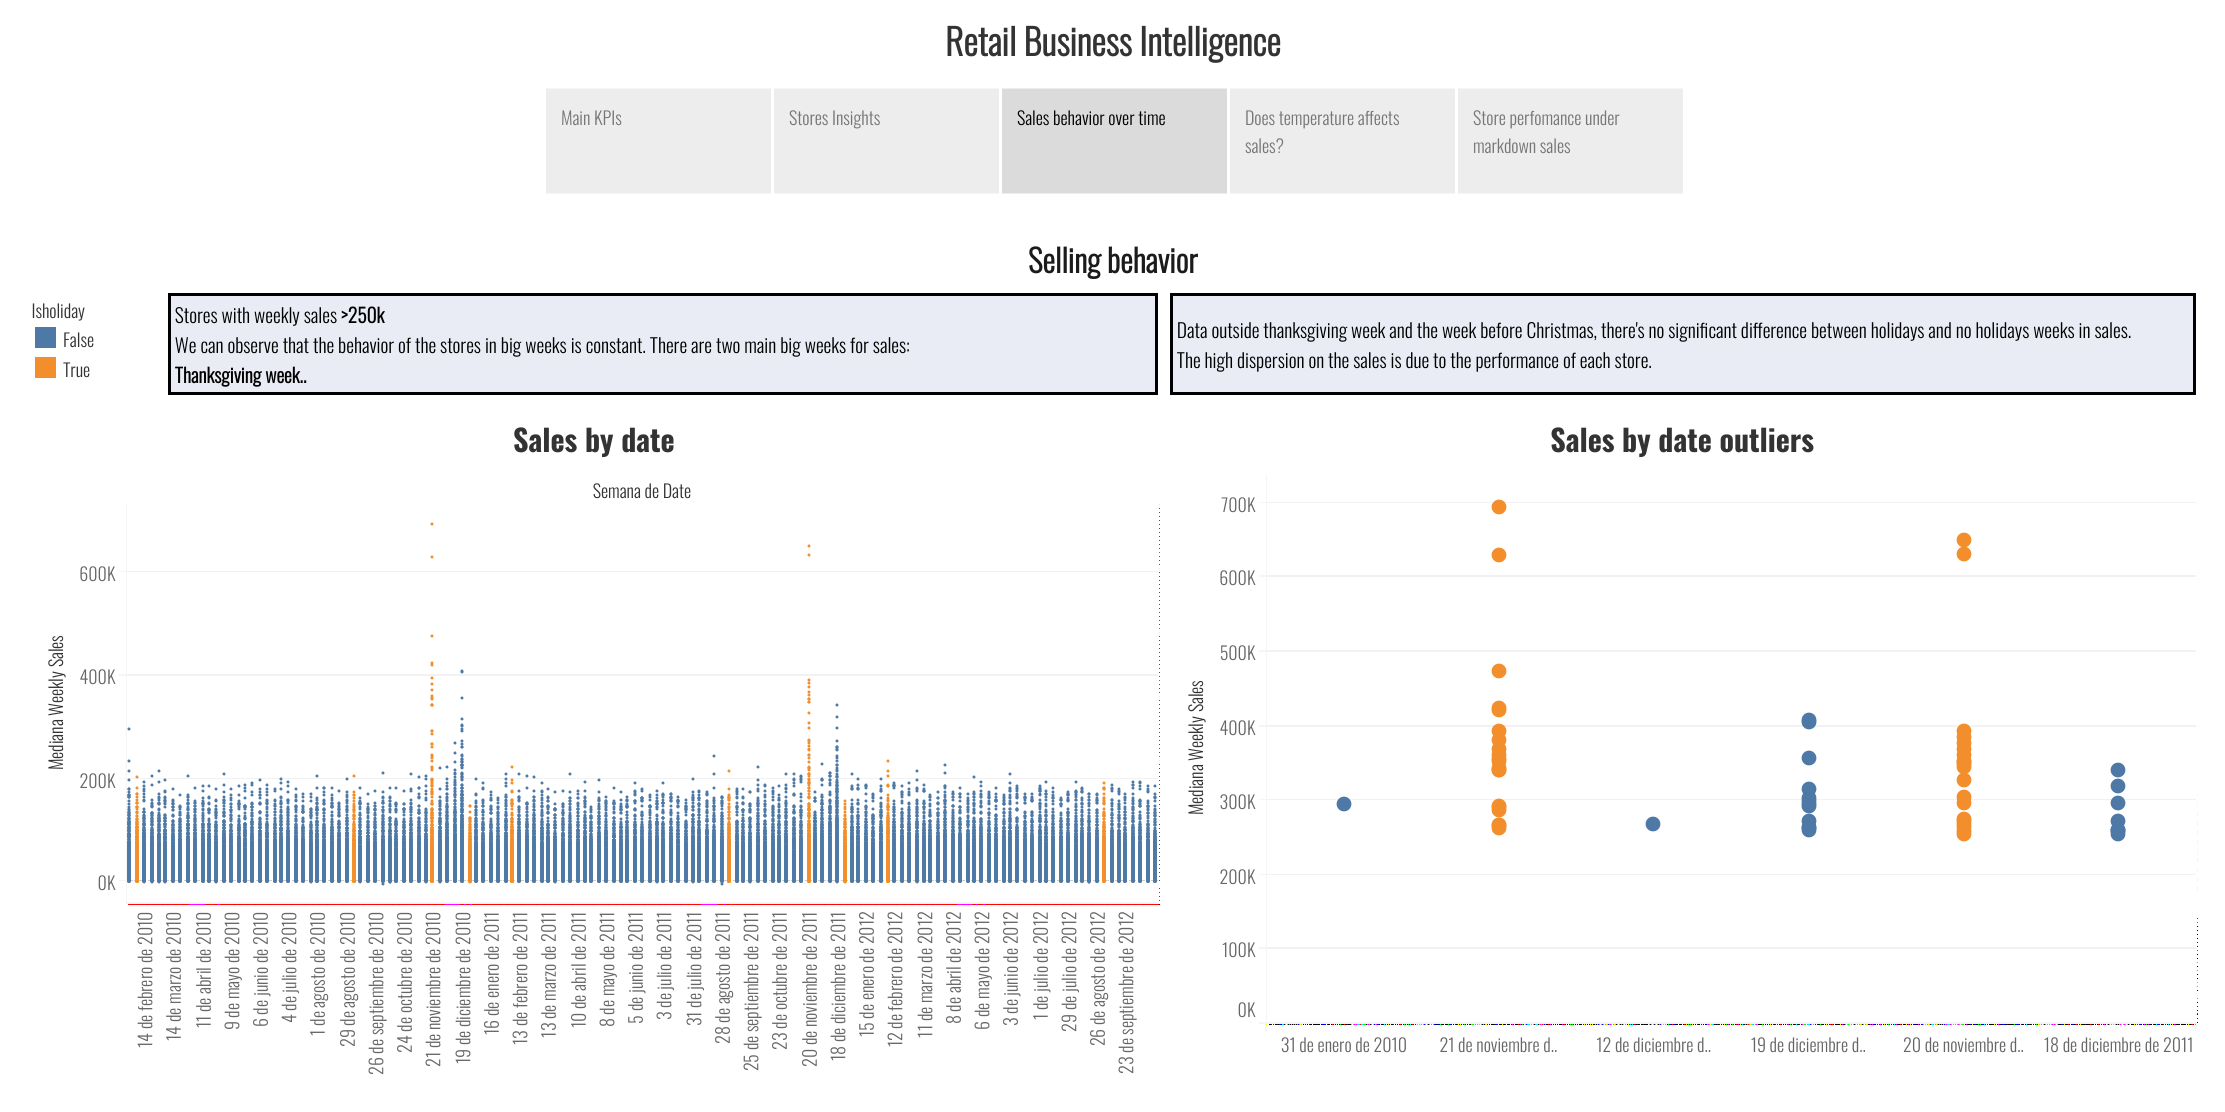

The page's visual inventory and layout, read from the dashboard file:
{"tool":"tableau","page":{"name":"Dashboard 3","canvas":[1000,1000],"units":"permille","ordinal":2},"visuals":[{"type":"text","box":[5.4,10.8,989.2,65]},{"type":"legend","title":"Sales by date","param":"[federated.09c82i20zi96wa15g1bcy1swq6py].[none:isholiday:nk]","box":[5.4,75.8,62.7,130.1]},{"type":"text","box":[68.1,75.8,454.9,130.1]},{"type":"text","box":[522.9,75.8,471.7,130.1]},{"type":"worksheet","title":"Sales by date","mark":"Circle","rows":["weekly_sales"],"cols":["date"],"box":[5.4,205.9,517.5,783.3]},{"type":"worksheet","title":"Sales by date outliers","mark":"Circle","rows":["weekly_sales"],"cols":["date"],"box":[522.9,205.9,471.7,783.3]}]}

Visuals, with their boxes on the dashboard's canvas, which has no fixed pixel size, in thousandths of its width and height (x1, y1, x2, y2). These are canvas units, not pixel positions in the 2225x1112 screenshot, which may show the page scaled, cropped or inside an application window:
text: bbox=[5, 11, 995, 76]
"Sales by date" legend: bbox=[5, 76, 68, 206]
text: bbox=[68, 76, 523, 206]
text: bbox=[523, 76, 995, 206]
"Sales by date" worksheet (Circle marks): bbox=[5, 206, 523, 989]
"Sales by date outliers" worksheet (Circle marks): bbox=[523, 206, 995, 989]
